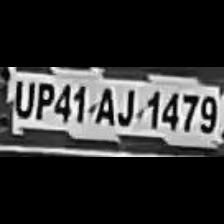1: (138, 85, 160, 129), (69, 80, 87, 124)
4: (158, 87, 178, 131), (51, 79, 70, 121)
7: (178, 89, 196, 133)
9: (194, 90, 218, 132)
A: (89, 82, 115, 126)
J: (114, 84, 136, 126)
P: (32, 77, 52, 119)
U: (10, 76, 32, 118)
